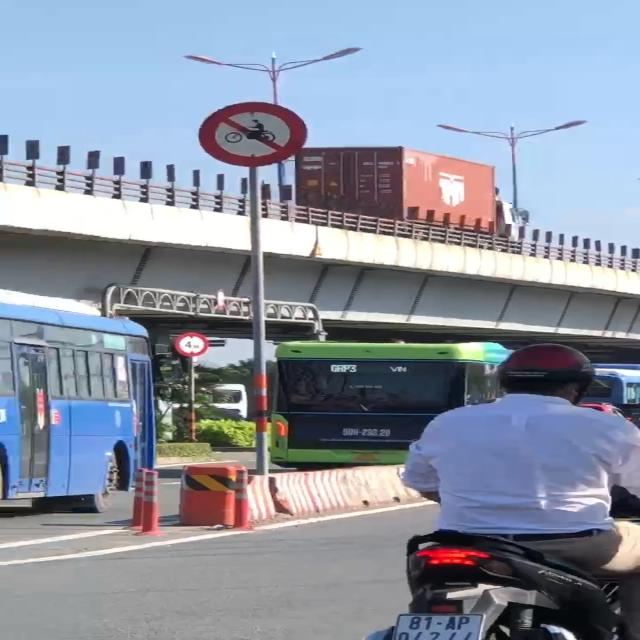Bien bao cam xe may: (190, 97, 320, 167)
